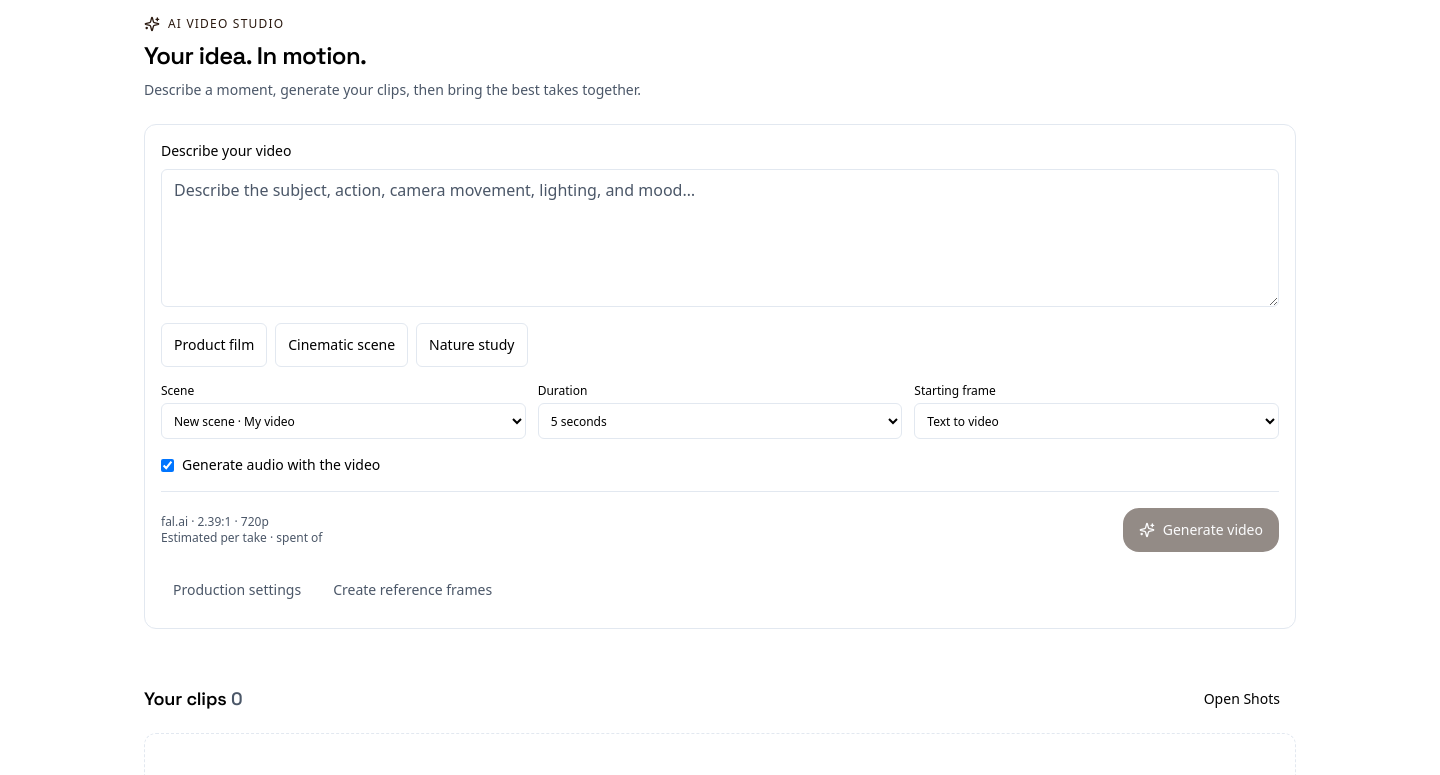
Test: CreateVideoPanel › persists a scene and shot before requesting a take with the chosen audio setting
Replace the text in the text box labelled "Describe your video" with "A bird over the ocean": (720, 238) [161,169,1279,307]
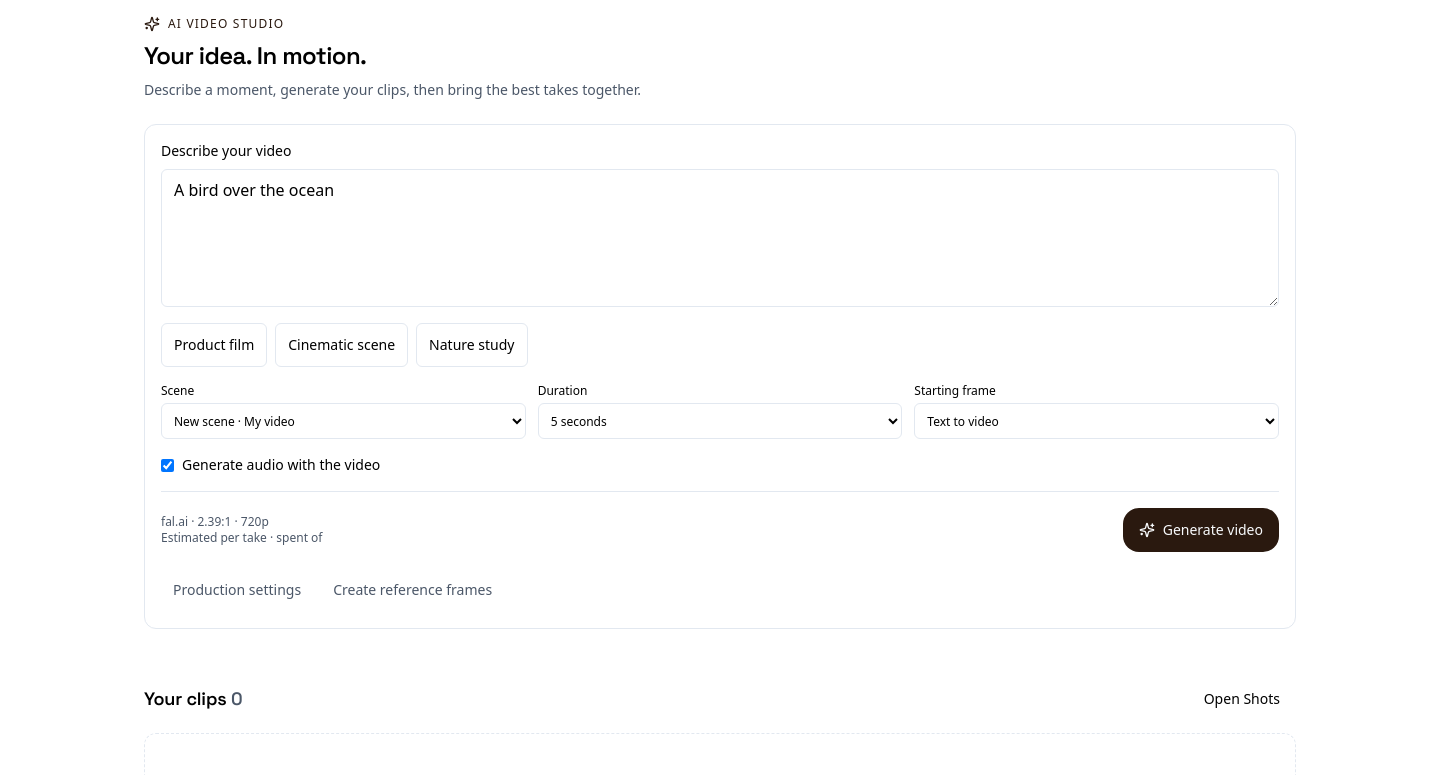
Select "8 seconds" in the dropdown labelled "Duration": (720, 421) [538,403,902,439]
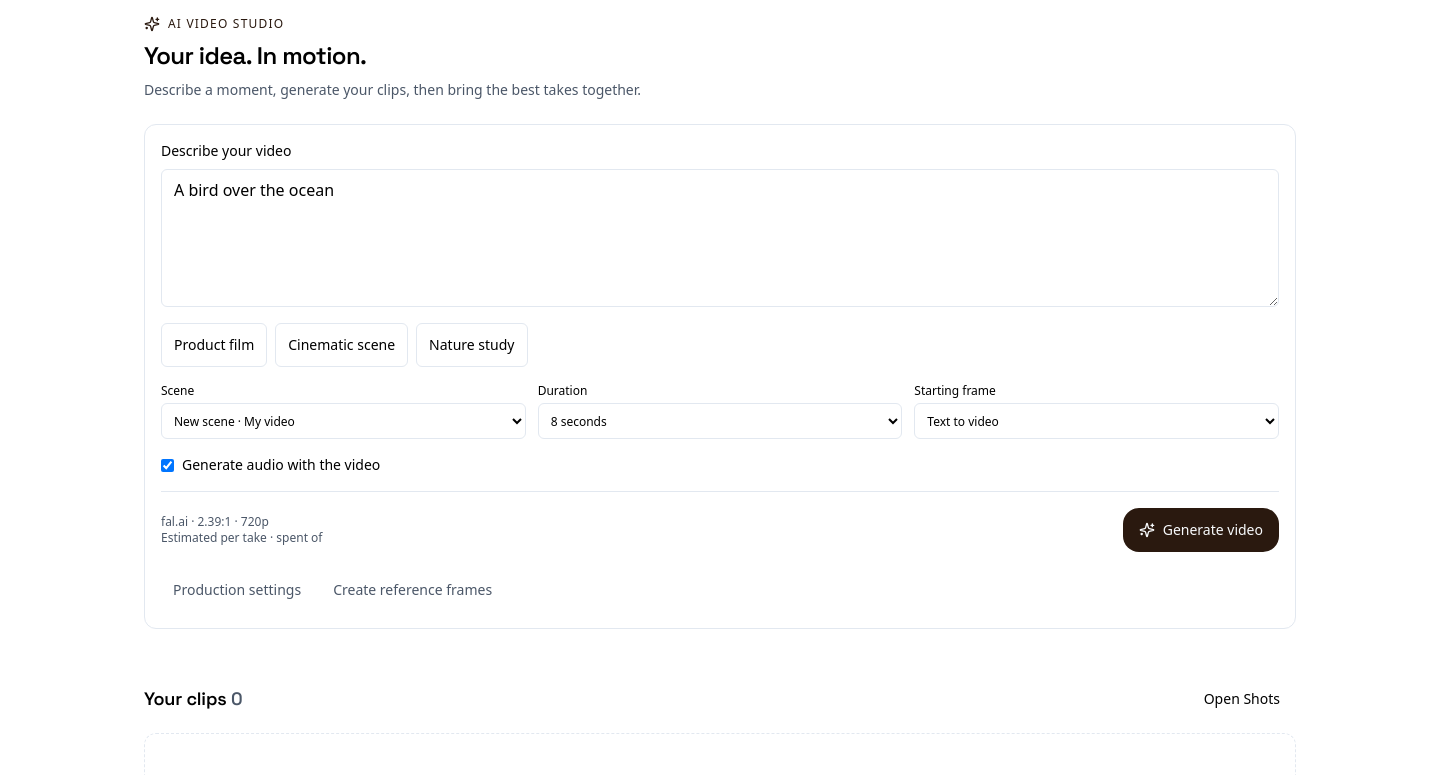
Click the checkbox labelled "Generate audio with the video": (168, 465) [161,458,174,472]
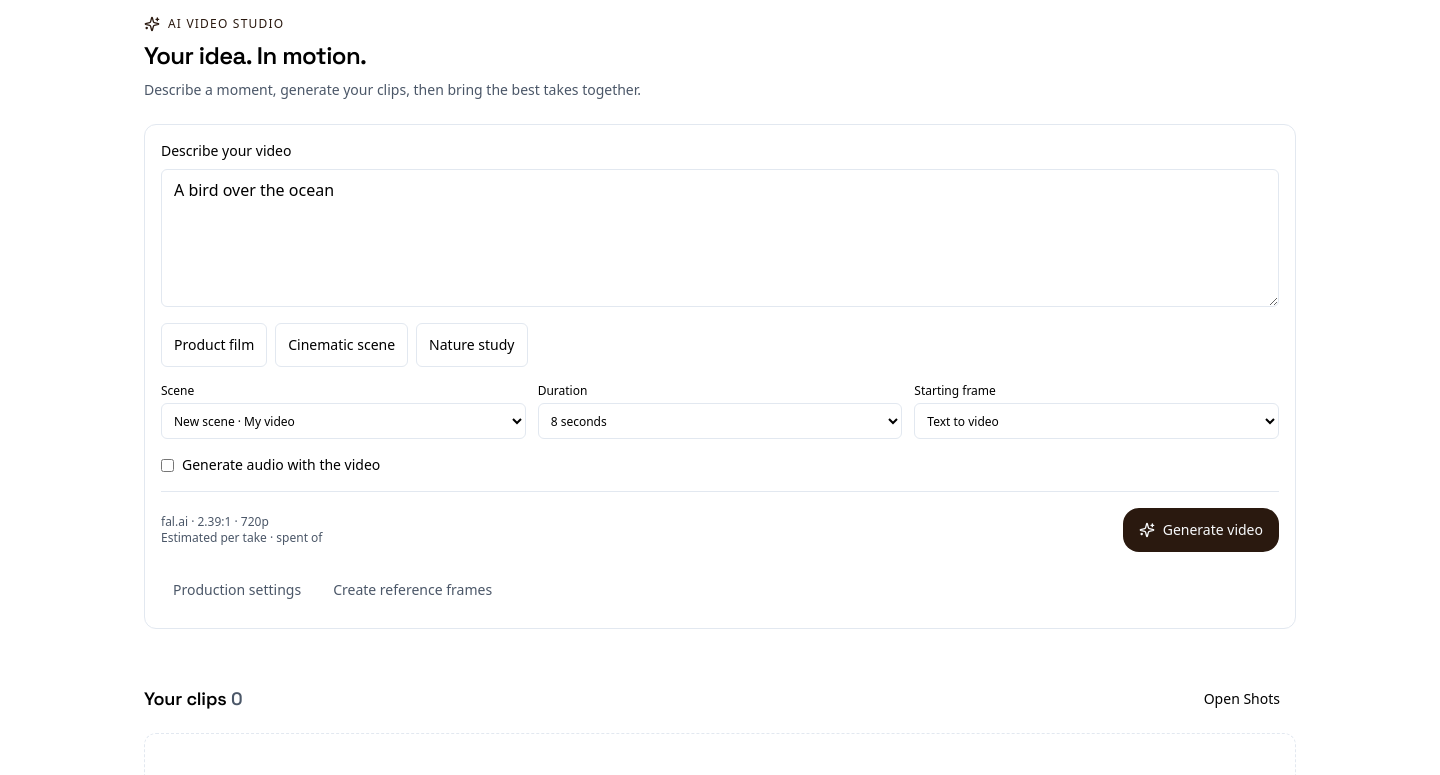
Click the button "Generate video": (1201, 530) [1123,508,1279,552]
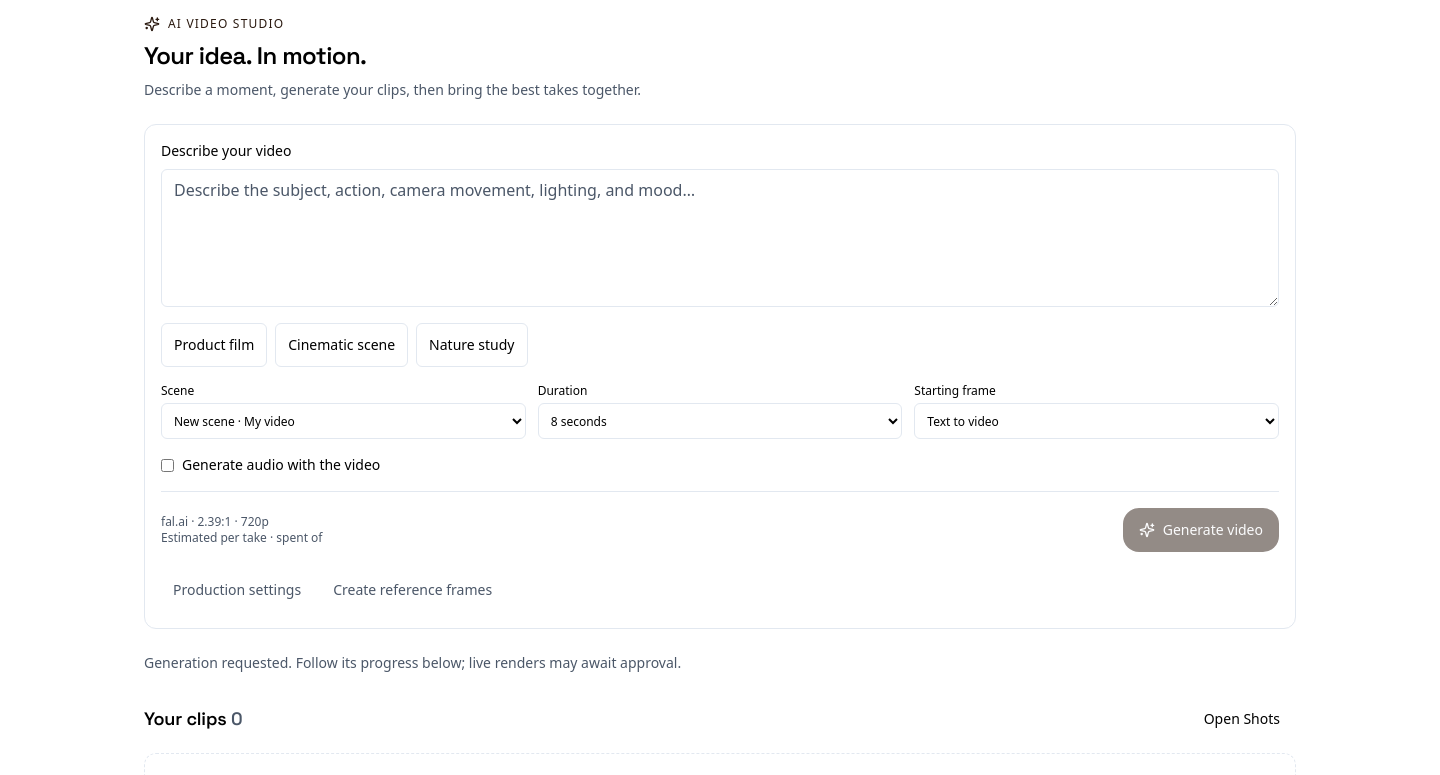
Now the text "Generation requested" is shown, box [144,653,681,672]
